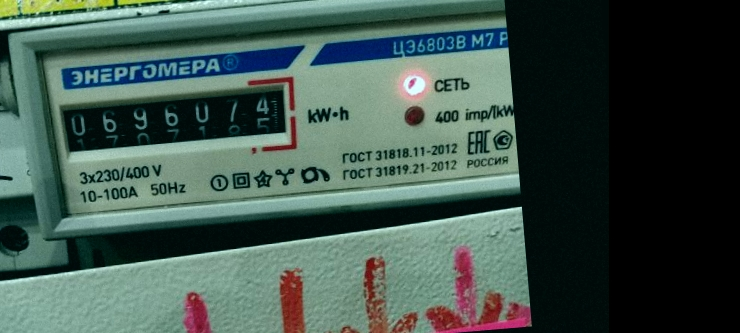0: (65, 110, 86, 137), (192, 97, 210, 124)
4: (252, 91, 270, 116)
5: (254, 115, 271, 134)
6: (98, 106, 119, 134), (160, 101, 179, 127)
7: (220, 95, 241, 123)
9: (128, 104, 149, 130)
screen: (45, 70, 303, 172)
